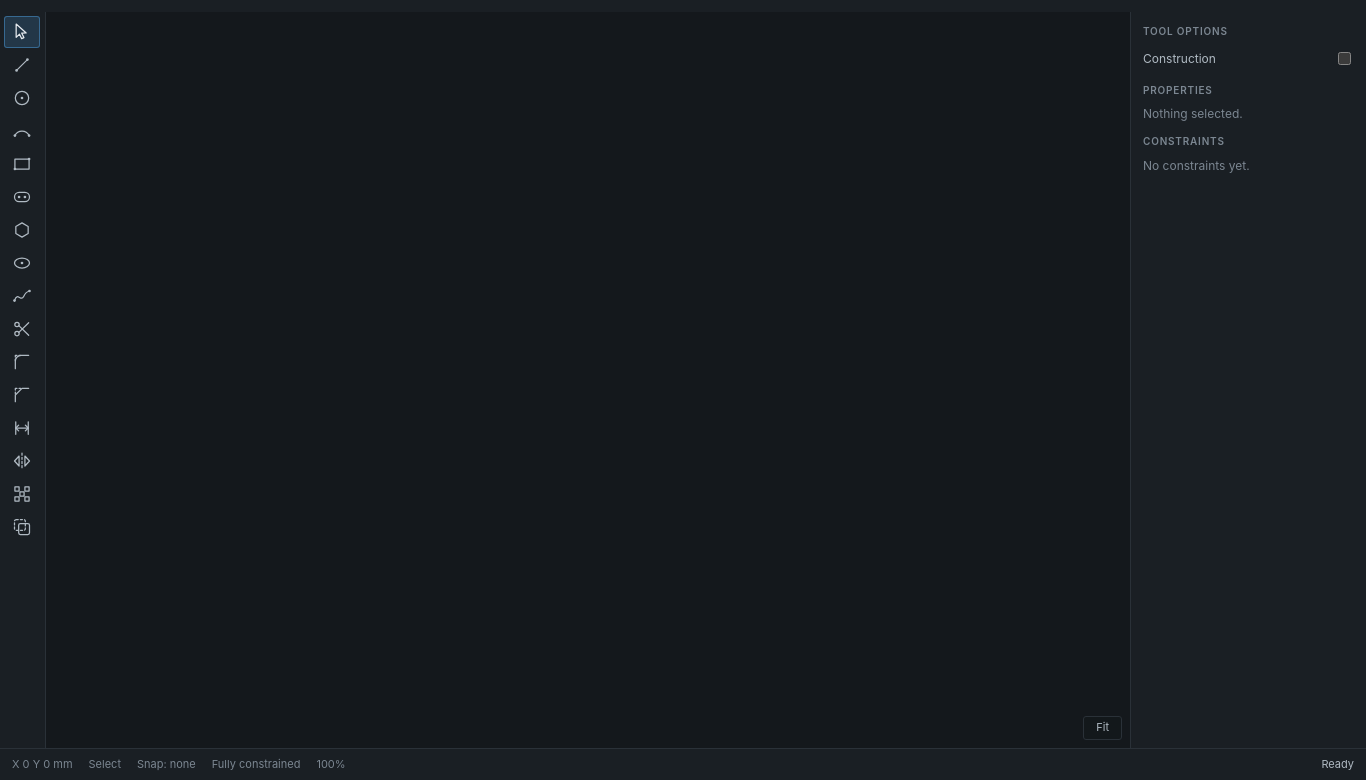
Test: toolbar › highlights the tool that was picked and shows its hint
Click the button named "Line" at (22, 65), box [4,49,40,81]
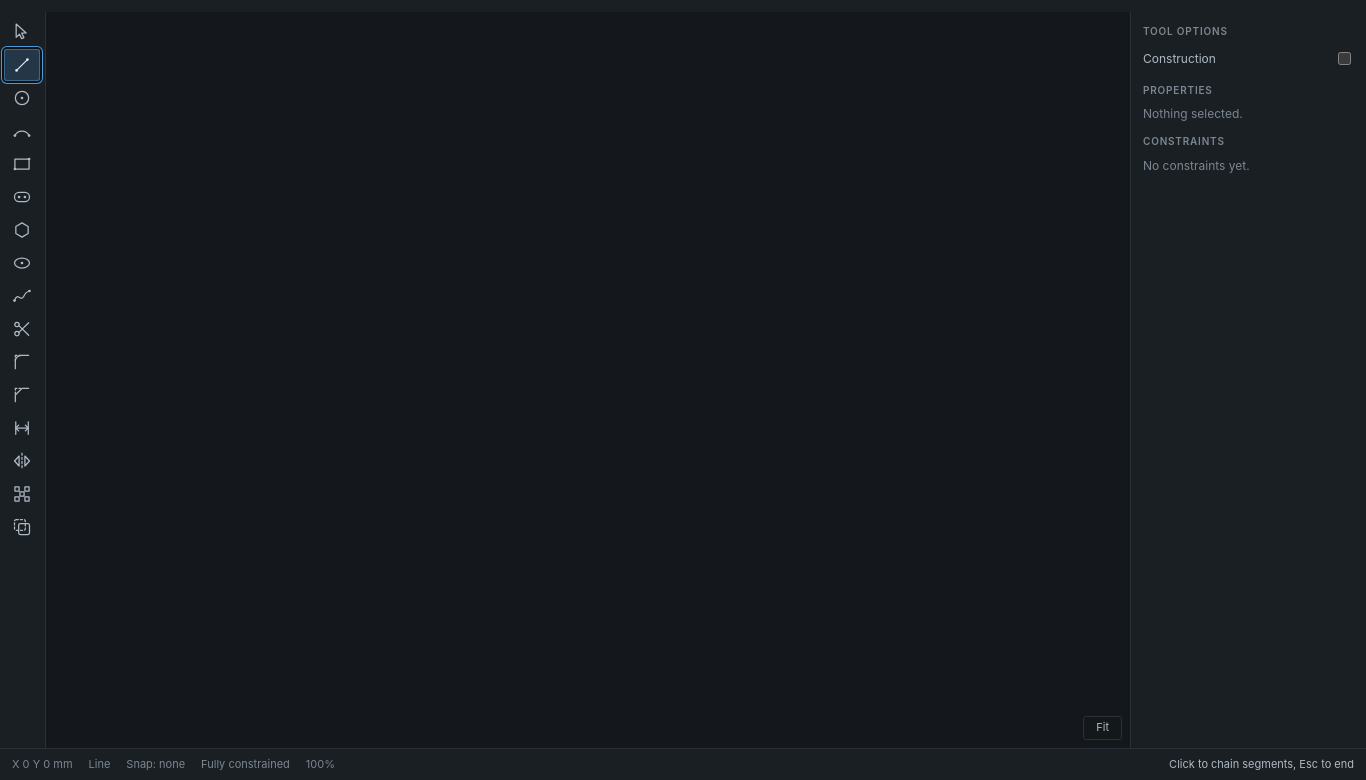
Expected: the text "Click to chain segments, Esc to end" is shown, [1169,756,1354,772]
